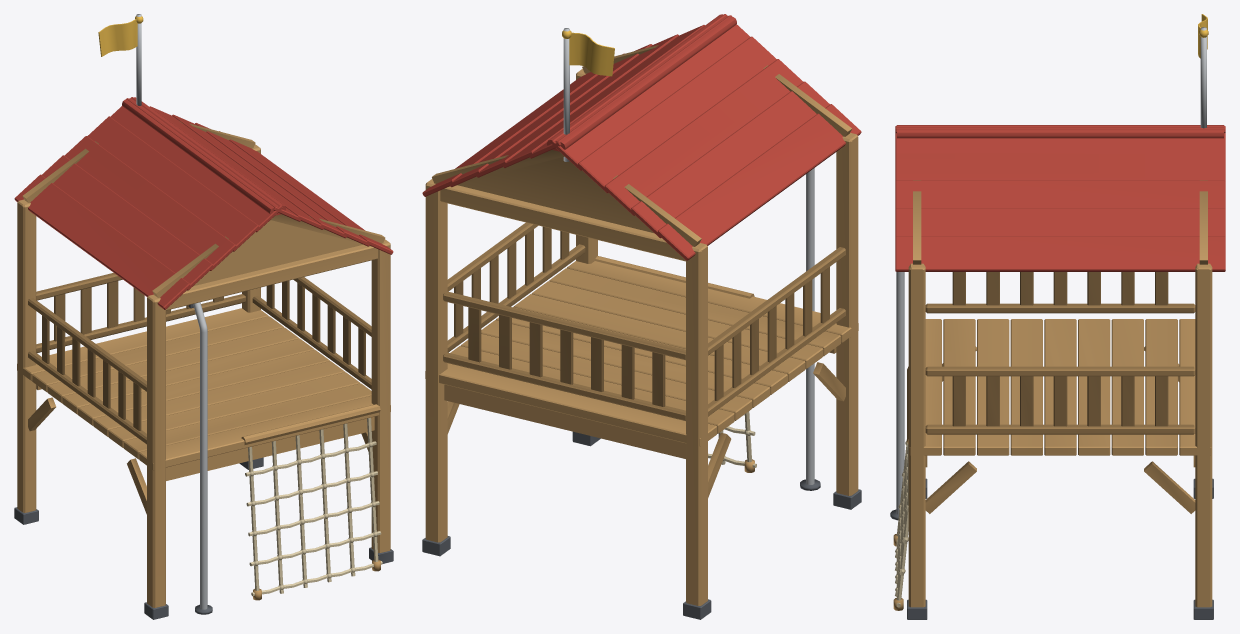
Rendered from climbingFrame.glb.
3 renders of one model, left to right at view 1: azimuth 30°, elevation 25°; view 2: azimuth 150°, elevation 25°; view 3: azimuth 270°, elevation 25°, orthographic. The views are drawn at different scales.
Parts seen in each view (by area): view 1: climbingFrame; view 2: climbingFrame; view 3: climbingFrame.
Boxes of the visible parts, bbox=[...] form: climbingFrame: bbox=[14, 14, 393, 619]; climbingFrame: bbox=[422, 14, 861, 619]; climbingFrame: bbox=[890, 14, 1225, 619].
Bounding box in the file's own units: 1.82 × 3.45 × 1.99.
